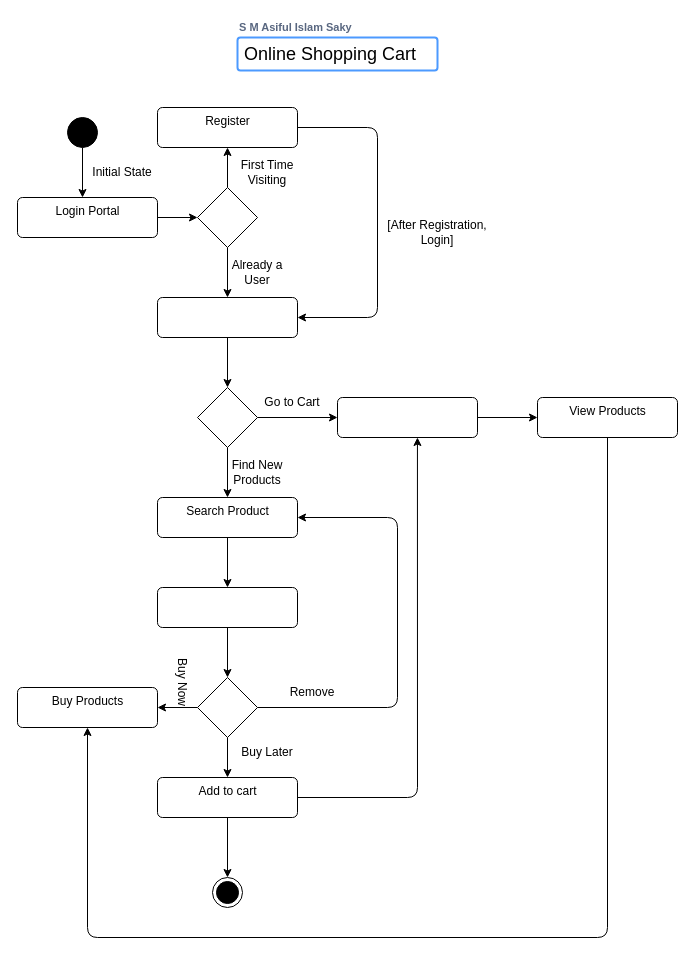
Some shapes in this 695 by 963 pixel diagram are drawn without their labels. Here are the shapes that lost their labels. From the top down, the centre of each, then its label:
At point 227,317: "Login".
At point 407,417: "View Shopping Cart".
At point 227,607: "Choose Products".
